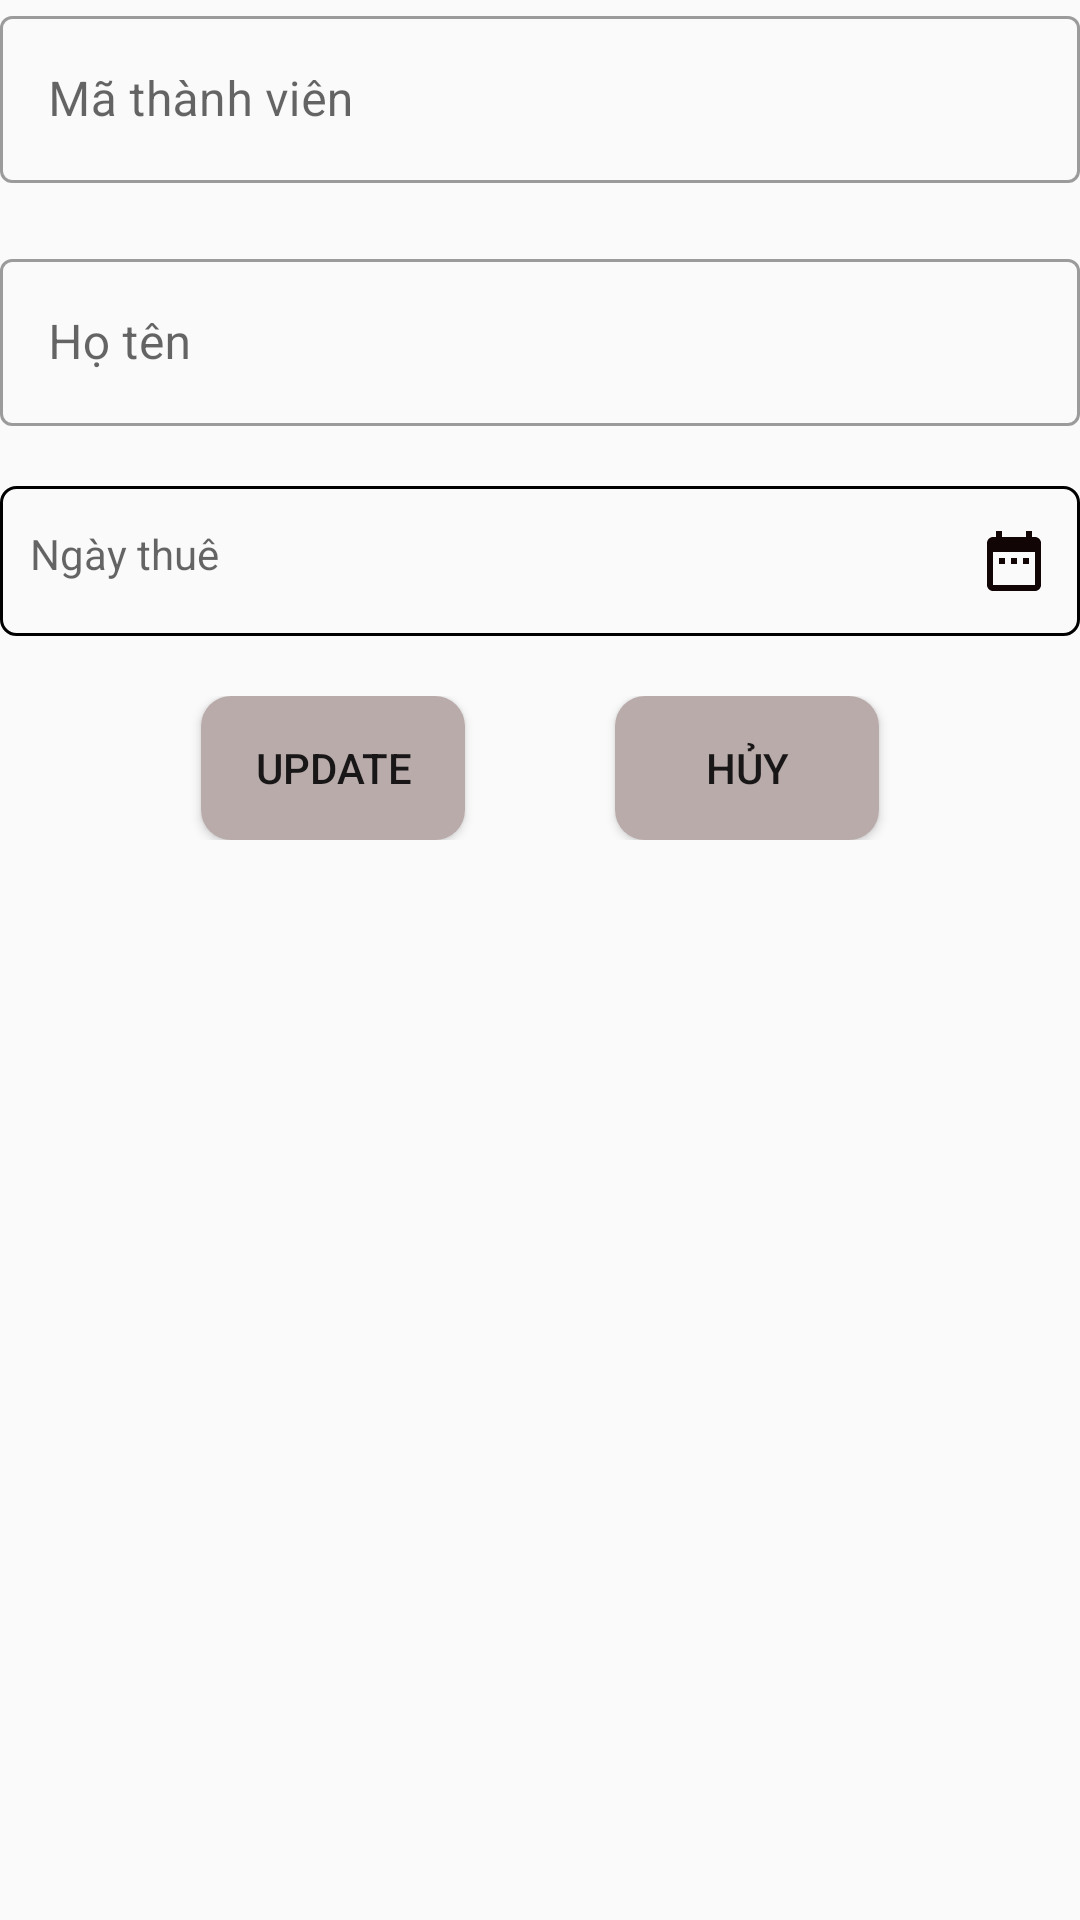

Named icons in this screenshot (1080 × 1920) and their bounding boxes, (x1, y1, x2, y2):
date range: (987, 531, 1041, 591)
